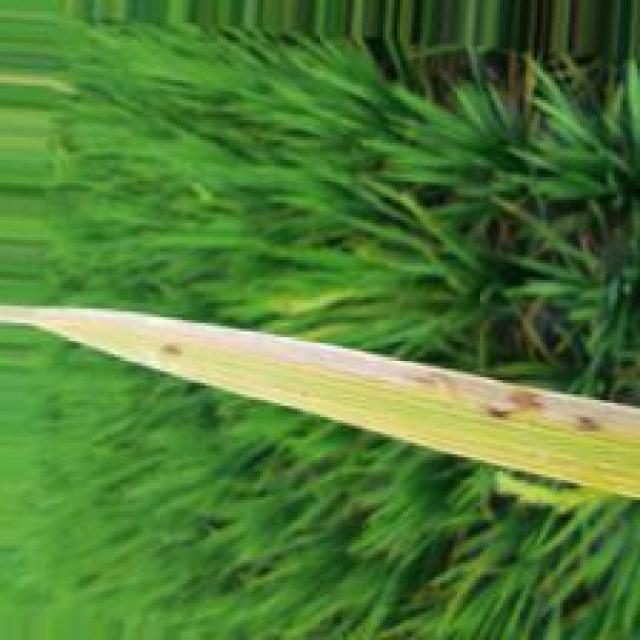Bacterial_Leaf_Blight: (0, 304, 640, 448)
